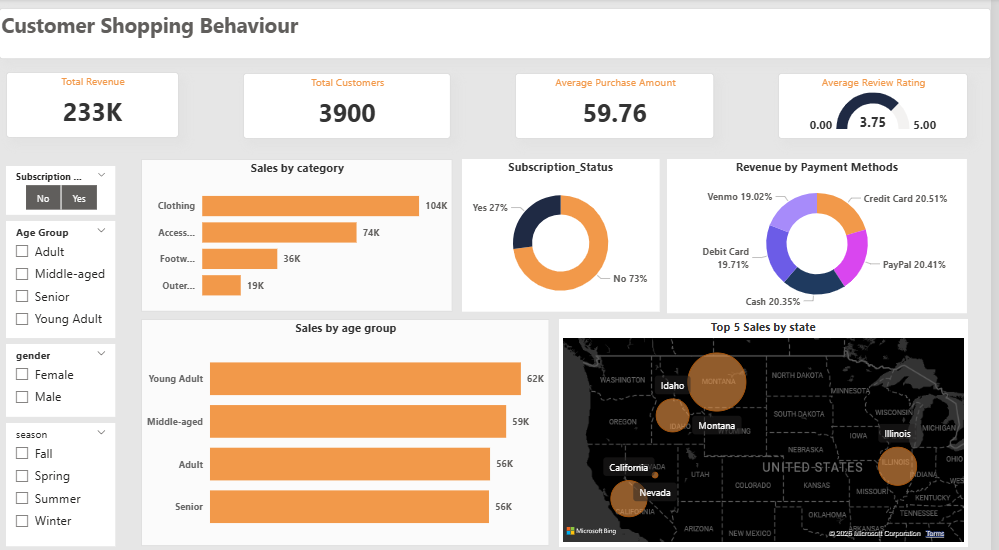

This screenshot's page, from the dashboard's own definition file:
{"tool":"powerbi","page":{"name":"Customer Overview","canvas":[1280,720],"ordinal":0},"visuals":[{"type":"shape","title":"Customer Shopping Behaviour","box":[0,11,1280,66.1],"z":0},{"type":"card","title":"Total Revenue","fields":{"Values":["Sum(customer_behaviour customer.purchase_amount)"]},"box":[9.6,93.6,223,85.3],"z":1000},{"type":"card","title":"Total Customers","fields":{"Values":["customer_behaviour customer.Total Customers"]},"box":[314.7,95,268.4,85.3],"z":2000},{"type":"card","title":"Average Purchase Amount","fields":{"Values":["customer_behaviour customer.Average Purchase Amount"]},"box":[665.2,95,257.4,85.3],"z":3000},{"type":"gauge","fields":{"Y":["customer_behaviour customer.Average Review Rating"]},"box":[1004.7,95,245,85.3],"z":4000},{"type":"barChart","title":"Sales by category","fields":{"Y":["Sum(customer_behaviour customer.purchase_amount)"],"Category":["customer_behaviour customer.category"]},"box":[183.1,206.5,401.9,196.8],"z":5000},{"type":"barChart","title":"Sales by age group","fields":{"Category":["customer_behaviour customer.age_group"],"Y":["Sum(customer_behaviour customer.purchase_amount)","select"]},"box":[183.1,412.9,527.1,293.2],"z":6000},{"type":"donutChart","title":"Subscription_Status","fields":{"Category":["customer_behaviour customer.subscription_status"],"Y":["Count(customer_behaviour customer.customer_id)","select"]},"box":[597.3,206.5,254.6,196.8],"z":7000},{"type":"donutChart","title":"Revenue by Payment Methods","fields":{"Category":["customer_behaviour customer.payment_method"],"Y":["Sum(customer_behaviour customer.purchase_amount)"]},"box":[861.9,206.5,387.1,198.7],"z":8000},{"type":"map","title":"Top 5 Sales by state","fields":{"Size":["Sum(customer_behaviour customer.purchase_amount)"],"Category":["customer_behaviour customer.location"]},"box":[722.6,412.9,527.1,293.2],"z":9000},{"type":"slicer","fields":{"Values":["customer_behaviour customer.subscription_status"]},"box":[9,215.5,140.6,63.2],"z":10000},{"type":"slicer","fields":{"Values":["customer_behaviour customer.age_group"]},"box":[9,286.5,140.6,151],"z":11000},{"type":"slicer","fields":{"Values":["customer_behaviour customer.gender"]},"box":[9,445.2,140.6,94.2],"z":12000},{"type":"slicer","fields":{"Values":["customer_behaviour customer.season"]},"box":[9,547.1,140.6,158.7],"z":13000}]}

Visuals, with their boxes in screenshot pixels (x1, y1, x2, y2), scaled from the page's 1280x720 canvas onto the 999x550 screenshot:
"Customer Shopping Behaviour" shape: 0, 8, 998, 59
"Total Revenue" card: 7, 71, 182, 137
"Total Customers" card: 246, 73, 455, 138
"Average Purchase Amount" card: 519, 73, 720, 138
gauge - customer_behaviour customer.Average Review Rating: 784, 73, 975, 138
"Sales by category" barChart: 143, 158, 457, 308
"Sales by age group" barChart: 143, 315, 554, 539
"Subscription_Status" donutChart: 466, 158, 665, 308
"Revenue by Payment Methods" donutChart: 673, 158, 975, 310
"Top 5 Sales by state" map: 564, 315, 975, 539
slicer - customer_behaviour customer.subscription_status: 7, 165, 117, 213
slicer - customer_behaviour customer.age_group: 7, 219, 117, 334
slicer - customer_behaviour customer.gender: 7, 340, 117, 412
slicer - customer_behaviour customer.season: 7, 418, 117, 539
